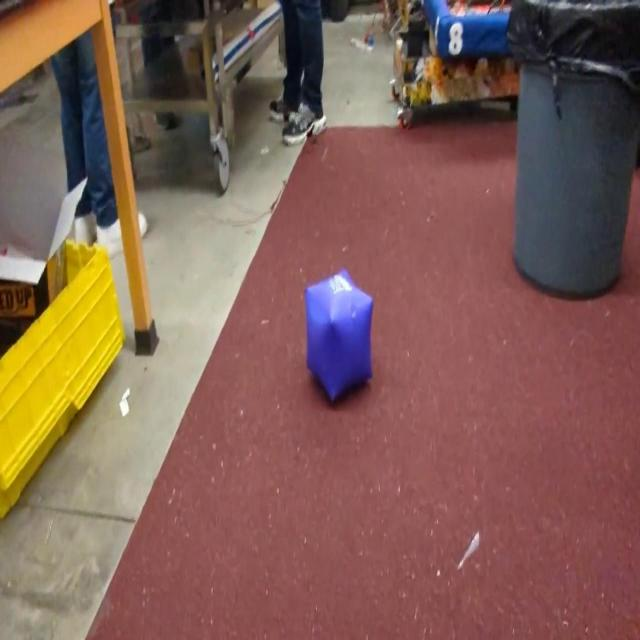frc_cube: (303, 266, 373, 404)
